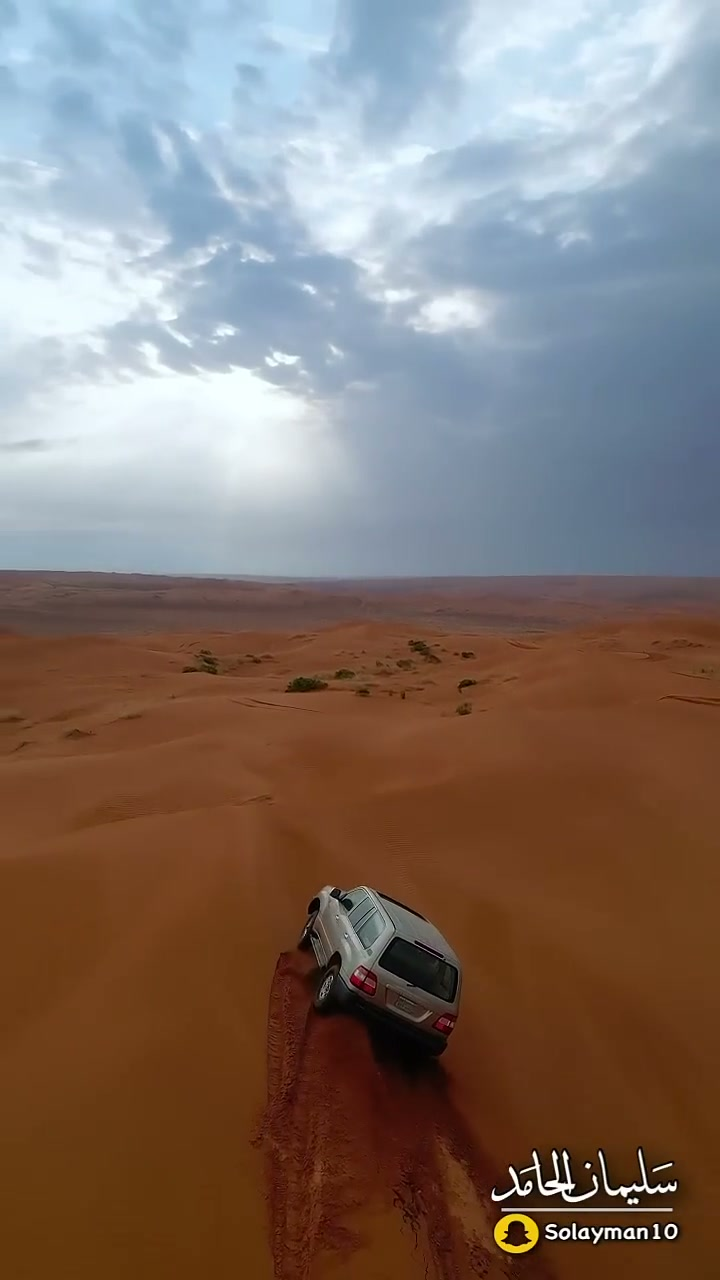vehicle_track: (255, 953, 549, 1279)
